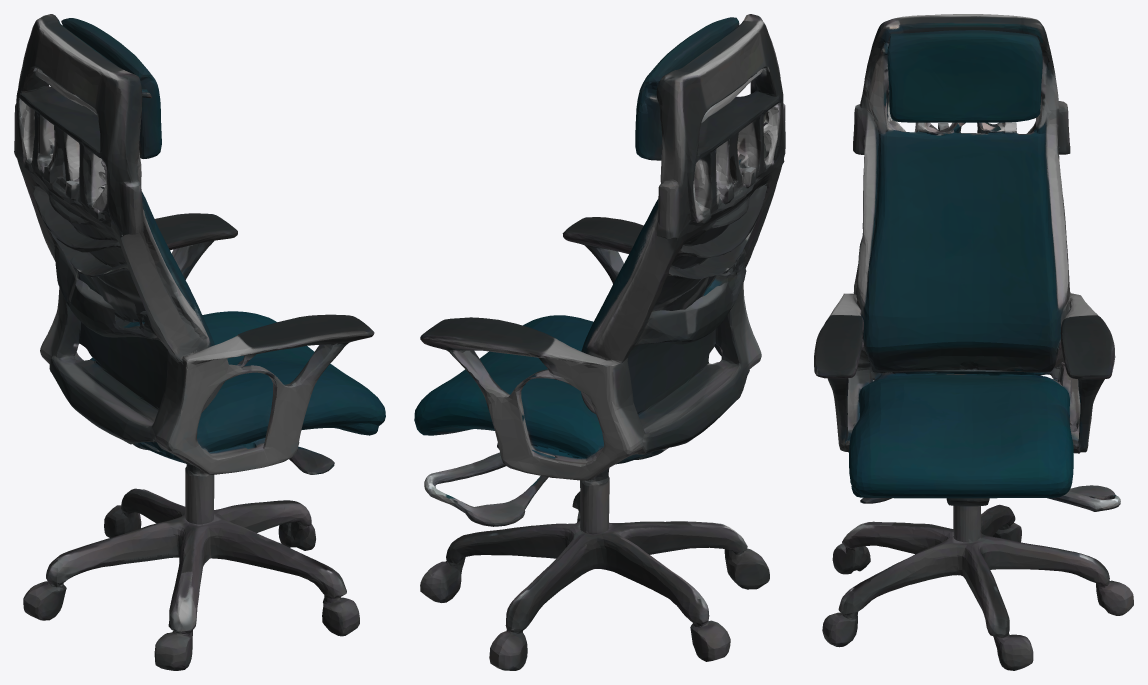
Rendered from computer_chair_47.glb.
3 renders of one model, left to right at view 1: azimuth 30°, elevation 25°; view 2: azimuth 150°, elevation 25°; view 3: azimuth 270°, elevation 25°, orthographic. The views are drawn at different scales.
Visible parts, largest first — view 1: computer_chair_47.obj; view 2: computer_chair_47.obj; view 3: computer_chair_47.obj.
Boxes of the visible parts, x1,y1,x2,y2 form: computer_chair_47.obj: [14, 14, 385, 670]; computer_chair_47.obj: [414, 14, 785, 670]; computer_chair_47.obj: [814, 14, 1133, 670].
Size of the model in its own units: 0.6812 by 1.3 by 0.7012.
Materials: 1 (1 with a texture image).
